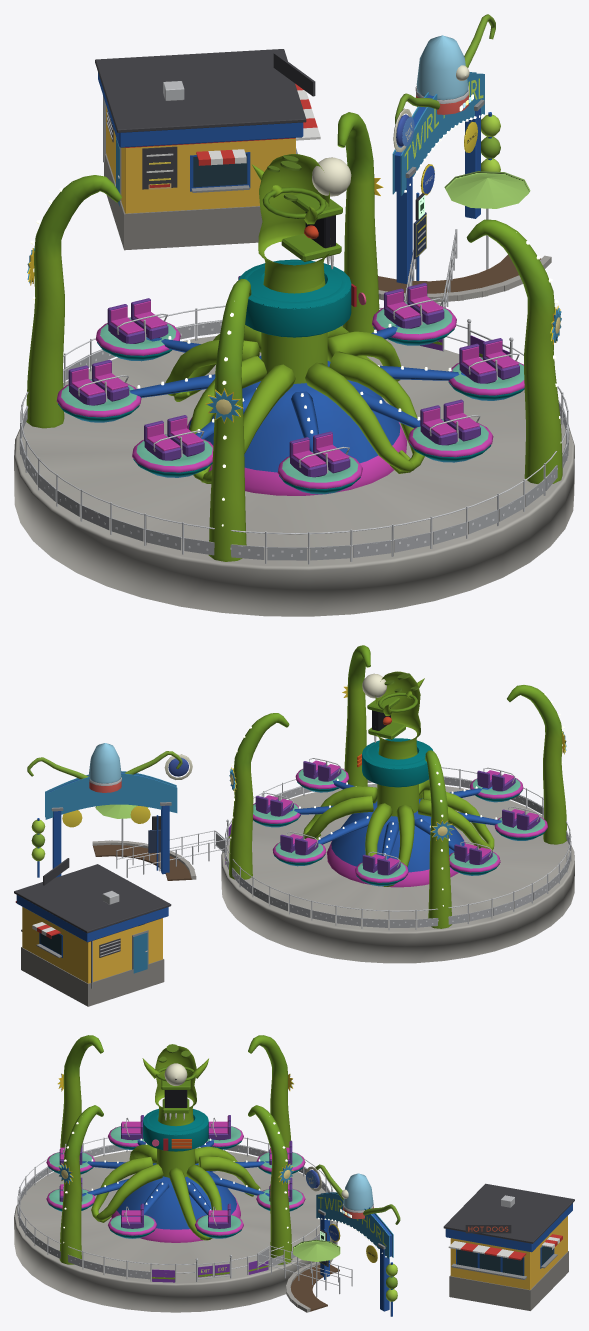
File: twirl-n-hurl.glb
3 renders of one model, top to bottom at view 1: azimuth 30°, elevation 25°; view 2: azimuth 150°, elevation 25°; view 3: azimuth 270°, elevation 25°, orthographic. The views are drawn at different scales.
Visible parts, largest first — view 1: twirl-n-hurl-concrete, twirl-n-hurl-paint, twirl-n-hurl-gloss, twirl-n-hurl-twirl-spinner-paint, twirl-n-hurl-twirl-spinner-gloss, twirl-n-hurl-metal, twirl-n-hurl-letters, twirl-n-hurl-glass, twirl-n-hurl-twirl-spinner-metal; view 2: twirl-n-hurl-concrete, twirl-n-hurl-paint, twirl-n-hurl-gloss, twirl-n-hurl-twirl-spinner-paint, twirl-n-hurl-twirl-spinner-gloss, twirl-n-hurl-metal, twirl-n-hurl-letters, twirl-n-hurl-glass, twirl-n-hurl-twirl-spinner-metal; view 3: twirl-n-hurl-concrete, twirl-n-hurl-paint, twirl-n-hurl-gloss, twirl-n-hurl-twirl-spinner-gloss, twirl-n-hurl-twirl-spinner-paint, twirl-n-hurl-metal, twirl-n-hurl-glass, twirl-n-hurl-letters.
Boxes of the visible parts, x1,y1,x2,y2 form: twirl-n-hurl-concrete: (14,153,574,616); twirl-n-hurl-paint: (19,14,569,560); twirl-n-hurl-gloss: (26,65,562,561); twirl-n-hurl-twirl-spinner-paint: (61,275,524,482); twirl-n-hurl-twirl-spinner-gloss: (56,302,524,494); twirl-n-hurl-metal: (20,81,568,564); twirl-n-hurl-letters: (103,78,483,222); twirl-n-hurl-glass: (193,35,468,187); twirl-n-hurl-twirl-spinner-metal: (78,298,519,473); twirl-n-hurl-concrete: (21,784,574,1006); twirl-n-hurl-paint: (14,686,571,983); twirl-n-hurl-gloss: (229,645,566,928); twirl-n-hurl-twirl-spinner-paint: (253,760,545,878); twirl-n-hurl-twirl-spinner-gloss: (253,765,547,886); twirl-n-hurl-metal: (102,767,571,930); twirl-n-hurl-letters: (32,922,148,988); twirl-n-hurl-glass: (40,743,121,954); twirl-n-hurl-twirl-spinner-metal: (261,758,539,867); twirl-n-hurl-concrete: (14,1148,568,1312); twirl-n-hurl-paint: (17,1073,574,1316); twirl-n-hurl-gloss: (59,1035,348,1264); twirl-n-hurl-twirl-spinner-gloss: (46,1126,305,1240); twirl-n-hurl-twirl-spinner-paint: (49,1115,302,1231); twirl-n-hurl-metal: (17,1137,514,1297); twirl-n-hurl-glass: (343,1173,553,1275); twirl-n-hurl-letters: (201,1176,562,1272).
Bounding box in the file's own units: 22.99 × 11.75 × 30.38.
